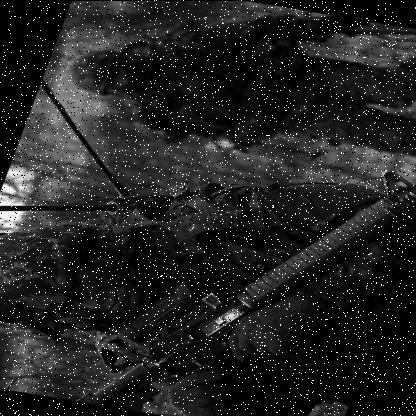rifle: (72, 109, 416, 416)
